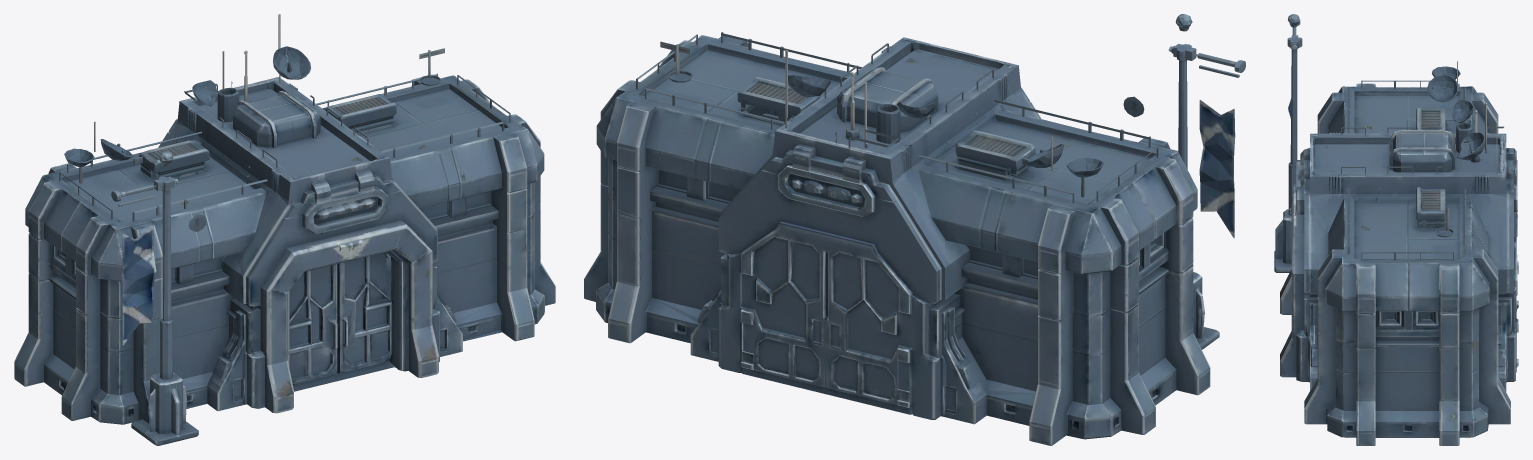
Rendered from infantry_bay_LOD0.glb.
3 renders of one model, left to right at view 1: azimuth 30°, elevation 25°; view 2: azimuth 150°, elevation 25°; view 3: azimuth 270°, elevation 25°, orthographic. The views are drawn at different scales.
Visible parts, largest first — view 1: infantry_bay_LOD0; view 2: infantry_bay_LOD0; view 3: infantry_bay_LOD0.
Boxes of the visible parts, x1,y1,x2,y2 form: infantry_bay_LOD0: [14, 14, 555, 445]; infantry_bay_LOD0: [584, 14, 1245, 445]; infantry_bay_LOD0: [1274, 14, 1518, 445].
Size of the model in its own units: 1 by 0.5558 by 0.4951.
Materials: 1 (1 with a texture image).
